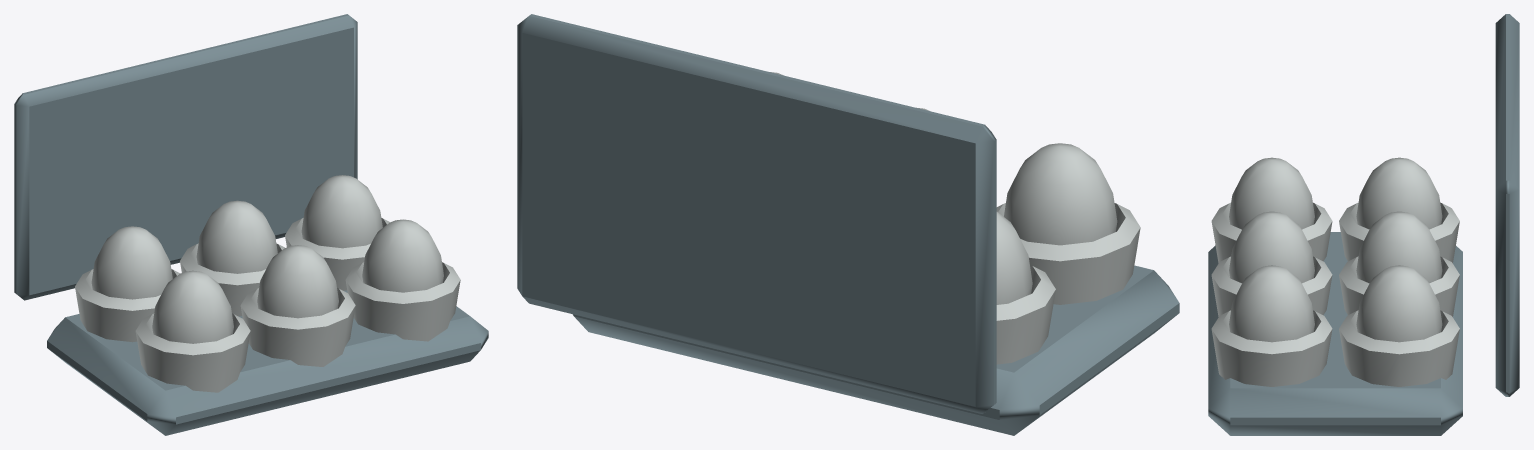
The model's file is egg-carton.glb.
3 views of the same model, side by side, from view 1: azimuth 30°, elevation 25°; view 2: azimuth 150°, elevation 25°; view 3: azimuth 270°, elevation 25° (orthographic). The views are drawn at different scales.
Visible parts, largest first — view 1: open_lid, pulp_base, egg_cup.001, egg_cup.003, egg_cup.005, egg.001, egg.003, egg.005, egg, egg.002, egg.004, egg_cup (+2 smaller); view 2: open_lid, pulp_base, egg.001, egg_cup.001, egg_cup, egg; view 3: pulp_base, open_lid, egg_cup.004, egg_cup.005, egg.004, egg.005, egg, egg.001, egg.002, egg.003, egg_cup, egg_cup.002 (+2 smaller).
Boxes of the visible parts, <box> form: open_lid: <box>14,14,357,300</box>; pulp_base: <box>47,290,488,435</box>; egg_cup.001: <box>135,313,250,392</box>; egg_cup.003: <box>240,288,355,366</box>; egg_cup.005: <box>345,262,460,341</box>; egg.001: <box>152,270,233,343</box>; egg.003: <box>257,245,338,318</box>; egg.005: <box>362,219,443,292</box>; egg: <box>91,226,172,299</box>; egg.002: <box>196,200,277,273</box>; egg.004: <box>301,175,382,248</box>; egg_cup: <box>75,269,180,342</box>; open_lid: <box>517,14,996,413</box>; pulp_base: <box>573,265,1179,435</box>; egg.001: <box>1004,143,1117,245</box>; egg_cup.001: <box>996,203,1140,304</box>; egg_cup: <box>996,265,1055,364</box>; egg: <box>996,212,1032,304</box>; pulp_base: <box>1208,232,1462,435</box>; open_lid: <box>1495,14,1519,396</box>; egg_cup.004: <box>1339,310,1459,386</box>; egg_cup.005: <box>1211,310,1332,386</box>; egg.004: <box>1356,265,1442,342</box>; egg.005: <box>1229,265,1314,342</box>; egg: <box>1356,157,1442,229</box>; egg.001: <box>1229,157,1314,229</box>; egg.002: <box>1356,211,1442,283</box>; egg.003: <box>1229,211,1314,283</box>; egg_cup: <box>1339,202,1459,263</box>; egg_cup.002: <box>1339,256,1459,316</box>.
Size of the model in its own units: 0.26 by 0.1805 by 0.1955.
